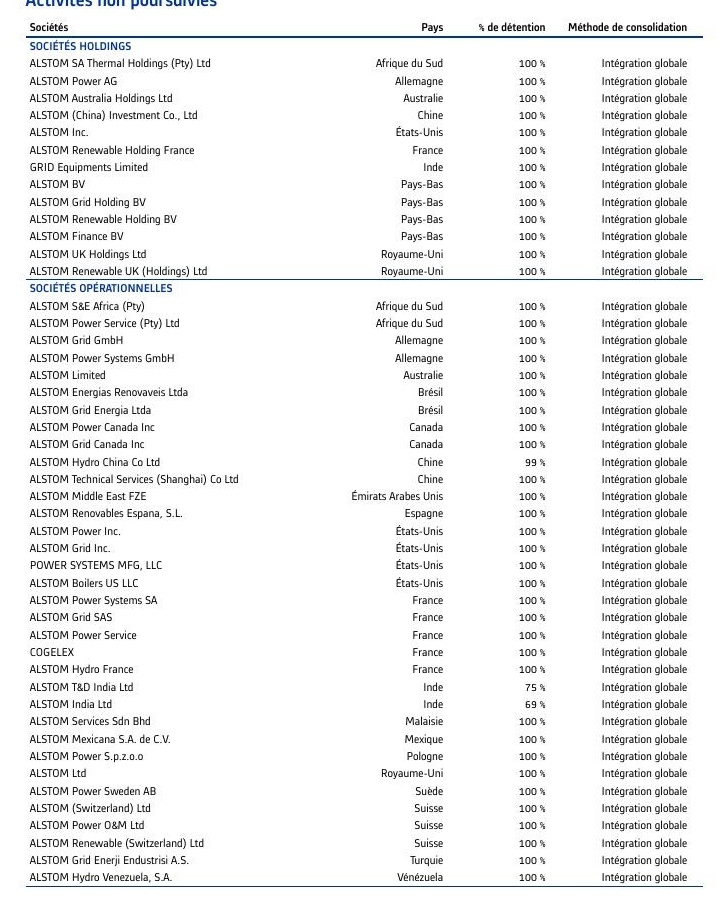table: (0, 0, 728, 904)
